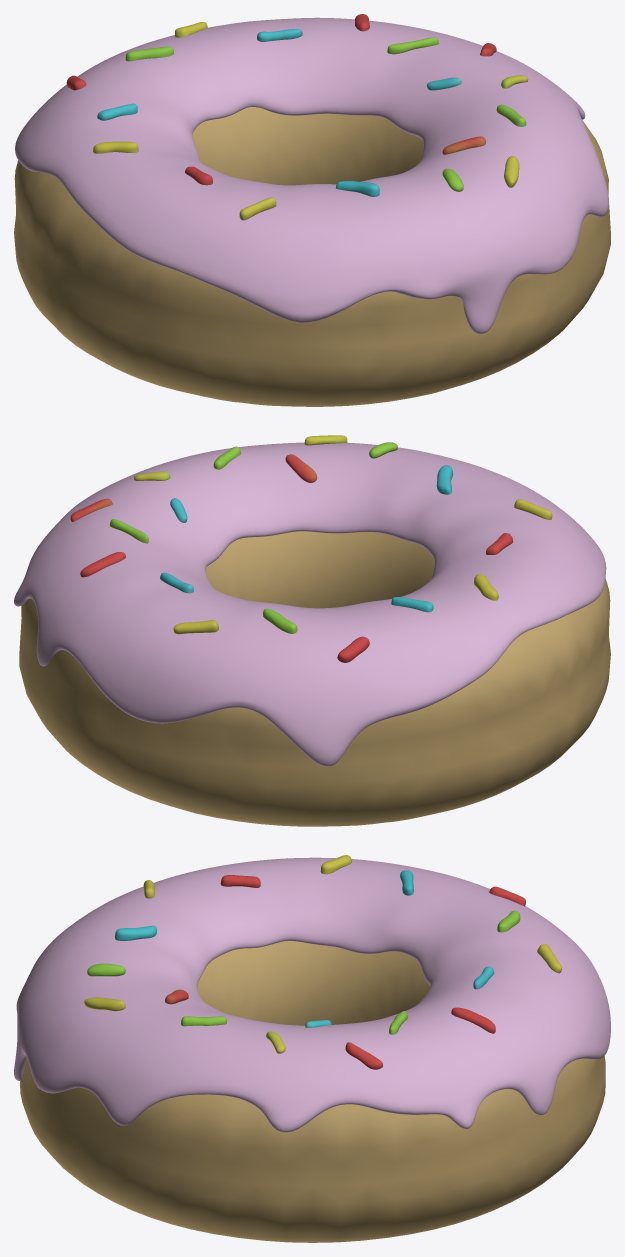
3 renders of one model, top to bottom at view 1: azimuth 30°, elevation 25°; view 2: azimuth 150°, elevation 25°; view 3: azimuth 270°, elevation 25°, orthographic.
Visible parts, largest first — view 1: Object_11, Object_10, Object_3, Object_9, Object_8, Object_2, Object_5, Object_7, Object_6, Object_4; view 2: Object_11, Object_10, Object_3, Object_2, Object_7, Object_9, Object_5, Object_8, Object_4, Object_6; view 3: Object_11, Object_10, Object_6, Object_3, Object_2, Object_7, Object_9, Object_4, Object_5, Object_8.
Part boxes in pixels (<box>): Object_11: <box>15,17,609,333</box>; Object_10: <box>14,107,610,406</box>; Object_3: <box>185,136,485,220</box>; Object_9: <box>125,46,379,196</box>; Object_8: <box>97,37,439,120</box>; Object_2: <box>427,75,528,191</box>; Object_5: <box>175,22,302,41</box>; Object_7: <box>93,14,369,153</box>; Object_6: <box>480,43,519,187</box>; Object_4: <box>66,75,526,126</box>; Object_11: <box>14,442,606,766</box>; Object_10: <box>19,531,610,826</box>; Object_3: <box>285,454,552,554</box>; Object_2: <box>134,442,397,522</box>; Object_7: <box>80,552,498,600</box>; Object_9: <box>263,465,452,633</box>; Object_5: <box>160,572,218,634</box>; Object_8: <box>109,519,433,612</box>; Object_4: <box>213,446,369,662</box>; Object_6: <box>70,435,347,521</box>; Object_11: <box>14,857,610,1132</box>; Object_10: <box>20,941,605,1242</box>; Object_6: <box>84,997,382,1069</box>; Object_3: <box>143,875,260,1004</box>; Object_2: <box>87,963,331,1053</box>; Object_7: <box>320,855,495,1033</box>; Object_9: <box>115,910,520,940</box>; Object_4: <box>181,886,525,1026</box>; Object_5: <box>473,944,561,989</box>; Object_8: <box>389,870,413,1034</box>.
Size of the model in its own units: 1.93 by 0.7362 by 1.95.
